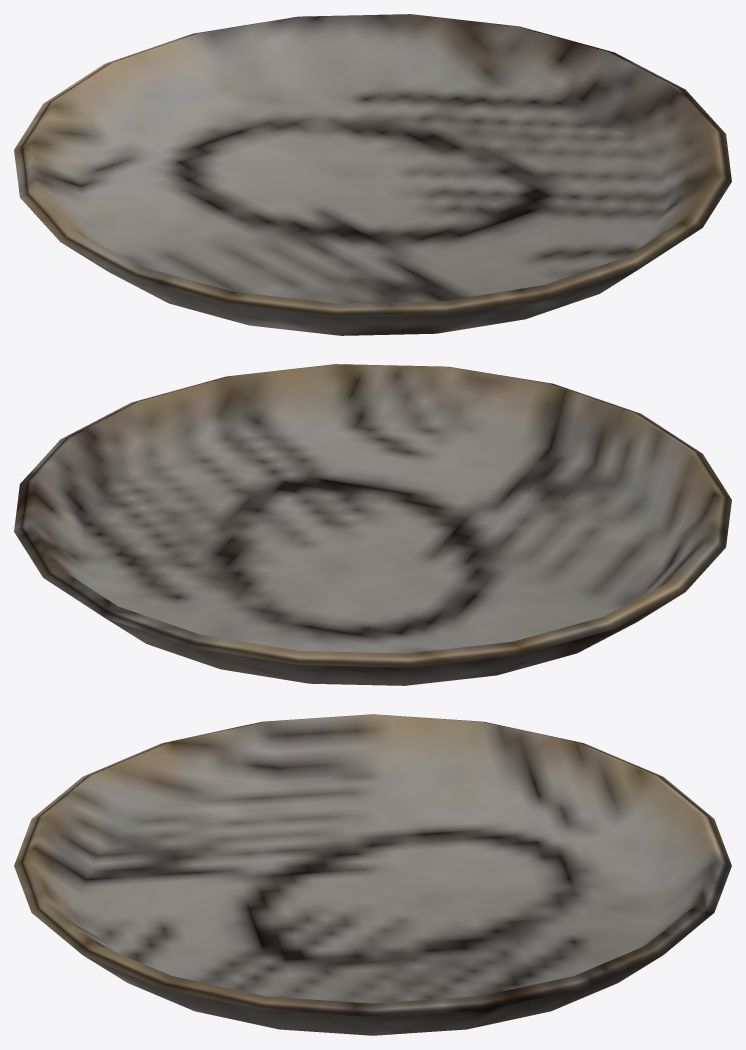
File: plate3.fbx
3 renders of one model, top to bottom at view 1: azimuth 30°, elevation 25°; view 2: azimuth 150°, elevation 25°; view 3: azimuth 270°, elevation 25°, orthographic.
Visible parts, largest first — view 1: Strove.009; view 2: Strove.009; view 3: Strove.009.
Boxes of the visible parts, x1,y1,x2,y2 form: Strove.009: (14,14,731,335); Strove.009: (14,364,731,685); Strove.009: (14,714,731,1035).
Size of the model in its own units: 19.47 by 1.45 by 19.47.
1 material, 1 textured.
